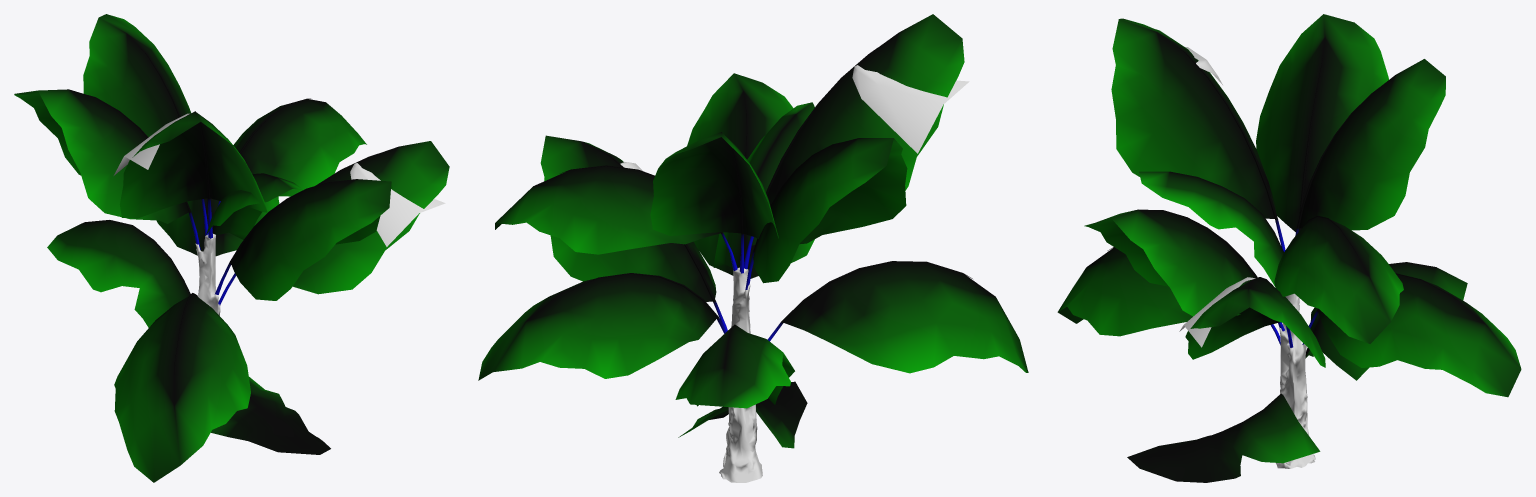
Rendered from CoconutPalmTree03_afsTREE_xlprl06_xafs02.fbx.
3 views of the same model, side by side, from view 1: azimuth 30°, elevation 25°; view 2: azimuth 150°, elevation 25°; view 3: azimuth 270°, elevation 25° (orthographic). The views are drawn at different scales.
Visible parts, largest first — view 1: PalmBranch01_xw03_xt05_xlp00, PalmBranch01_xw04_xt06_xlp00, PalmBranch01_xw08_xt06_xlp00, PalmBranch01_xw07_xt07_xlp00, DeadPalmBranch_xw02_xt03_xlp02_xp03, PalmBranch01_xw09_xt08_xlp00, PalmBranch01_xw06_xt06_xlp00, PalmBranch01_xw06_xt05_xlp00, DeadPalmBranch_xw00_xt00_xlp00, DeadPalmBranch_xw04_xt08_xlp05_xp04, PalmBranch01_xw04_xt06_xlp00.001, PalmBlade02_bent_right_xw03_xt05_xlp05.001 (+2 smaller); view 2: PalmBranch01_xw03_xt05_xlp00, PalmBranch01_xw04_xt06_xlp00.001, PalmBranch01_xw07_xt07_xlp00, PalmBranch01_xw08_xt06_xlp00, PalmBranch01_xw06_xt06_xlp00, PalmBranch01_xw09_xt08_xlp00, PalmBranch01_xw06_xt05_xlp00, DeadPalmBranch_xw02_xt03_xlp02_xp03, PalmBranch01_xw04_xt06_xlp00, PalmBlade02_bent_right_xw03_xt05_xlp05, trunk_CoconutPalmTree03_xw04_xt00_xlp00, DeadPalmBranch_xw04_xt08_xlp05_xp04 (+1 smaller); view 3: PalmBranch01_xw08_xt06_xlp00, PalmBranch01_xw07_xt07_xlp00, PalmBranch01_xw09_xt08_xlp00, PalmBranch01_xw04_xt06_xlp00.001, PalmBranch01_xw06_xt06_xlp00, PalmBranch01_xw04_xt06_xlp00, DeadPalmBranch_xw00_xt00_xlp00, PalmBranch01_xw03_xt05_xlp00, PalmBranch01_xw06_xt05_xlp00, DeadPalmBranch_xw04_xt08_xlp05_xp04, trunk_CoconutPalmTree03_xw04_xt00_xlp00, DeadPalmBranch_xw02_xt03_xlp02_xp03 (+2 smaller).
Boxes of the visible parts, left/top/right/bottom form: PalmBranch01_xw03_xt05_xlp00: left=114, top=294, right=250, bottom=482; PalmBranch01_xw04_xt06_xlp00: left=231, top=179, right=392, bottom=300; PalmBranch01_xw08_xt06_xlp00: left=119, top=111, right=267, bottom=218; PalmBranch01_xw07_xt07_xlp00: left=14, top=89, right=188, bottom=223; DeadPalmBranch_xw02_xt03_xlp02_xp03: left=47, top=220, right=190, bottom=327; PalmBranch01_xw09_xt08_xlp00: left=83, top=14, right=190, bottom=137; PalmBranch01_xw06_xt06_xlp00: left=233, top=99, right=366, bottom=196; PalmBranch01_xw06_xt05_xlp00: left=293, top=141, right=449, bottom=294; DeadPalmBranch_xw00_xt00_xlp00: left=211, top=377, right=330, bottom=454; DeadPalmBranch_xw04_xt08_xlp05_xp04: left=206, top=173, right=303, bottom=239; PalmBranch01_xw04_xt06_xlp00.001: left=156, top=196, right=279, bottom=256; PalmBlade02_bent_right_xw03_xt05_xlp05.001: left=350, top=163, right=445, bottom=246; PalmBranch01_xw03_xt05_xlp00: left=784, top=262, right=1028, bottom=373; PalmBranch01_xw04_xt06_xlp00.001: left=478, top=274, right=716, bottom=380; PalmBranch01_xw07_xt07_xlp00: left=753, top=138, right=907, bottom=283; PalmBranch01_xw08_xt06_xlp00: left=767, top=14, right=964, bottom=205; PalmBranch01_xw06_xt06_xlp00: left=495, top=166, right=720, bottom=254; PalmBranch01_xw09_xt08_xlp00: left=650, top=132, right=778, bottom=238; PalmBranch01_xw06_xt05_xlp00: left=540, top=135, right=716, bottom=301; DeadPalmBranch_xw02_xt03_xlp02_xp03: left=675, top=324, right=794, bottom=408; PalmBranch01_xw04_xt06_xlp00: left=687, top=73, right=814, bottom=278; PalmBlade02_bent_right_xw03_xt05_xlp05: left=852, top=65, right=969, bottom=153; trunk_CoconutPalmTree03_xw04_xt00_xlp00: left=719, top=267, right=762, bottom=482; DeadPalmBranch_xw04_xt08_xlp05_xp04: left=713, top=102, right=814, bottom=267; PalmBranch01_xw08_xt06_xlp00: left=1111, top=18, right=1275, bottom=218; PalmBranch01_xw07_xt07_xlp00: left=1256, top=14, right=1388, bottom=232; PalmBranch01_xw09_xt08_xlp00: left=1299, top=59, right=1445, bottom=230; PalmBranch01_xw04_xt06_xlp00.001: left=1318, top=274, right=1521, bottom=397; PalmBranch01_xw06_xt06_xlp00: left=1274, top=217, right=1403, bottom=343; PalmBranch01_xw04_xt06_xlp00: left=1084, top=209, right=1255, bottom=316; DeadPalmBranch_xw00_xt00_xlp00: left=1127, top=393, right=1320, bottom=482; PalmBranch01_xw03_xt05_xlp00: left=1057, top=247, right=1192, bottom=336; PalmBranch01_xw06_xt05_xlp00: left=1185, top=277, right=1325, bottom=367; DeadPalmBranch_xw04_xt08_xlp05_xp04: left=1139, top=171, right=1283, bottom=286; trunk_CoconutPalmTree03_xw04_xt00_xlp00: left=1276, top=293, right=1315, bottom=468; DeadPalmBranch_xw02_xt03_xlp02_xp03: left=1305, top=262, right=1467, bottom=380.
Size of what is drawn, in the model's own units: 5.79 by 6.06 by 5.69.
